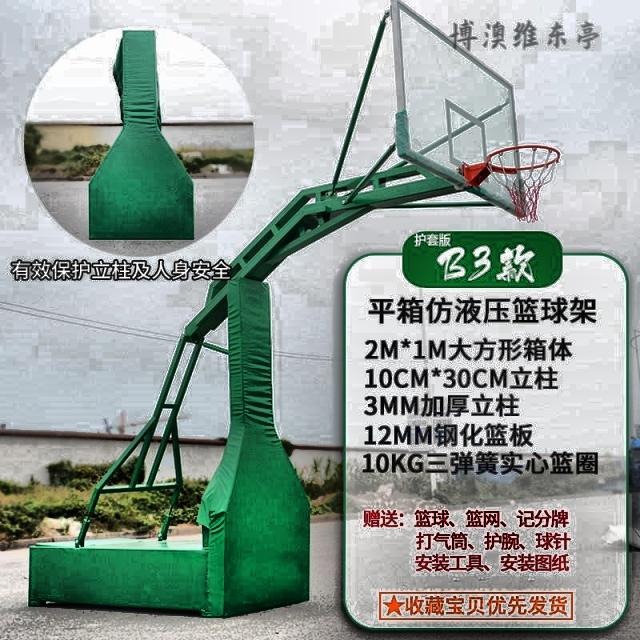rim: (488, 144, 562, 222)
